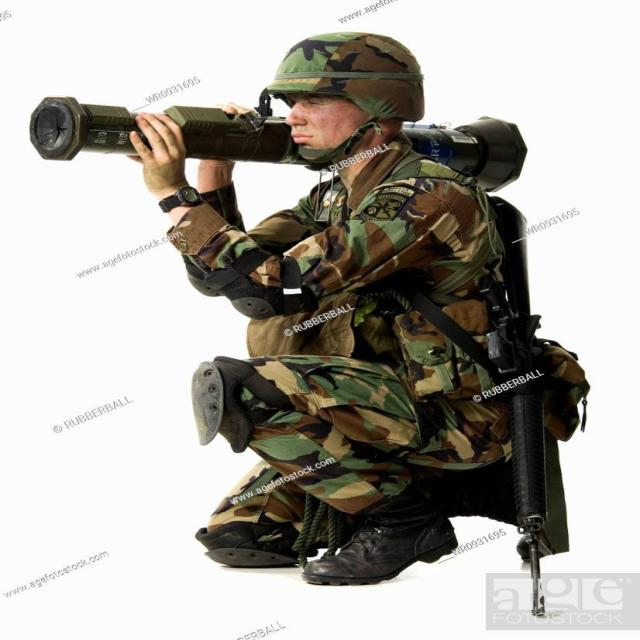soldier: (29, 22, 598, 596)
